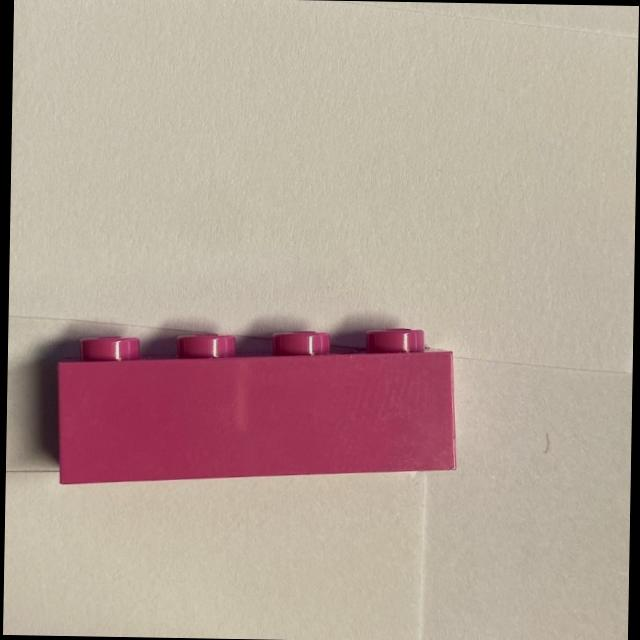1x4: (55, 327, 454, 483)
